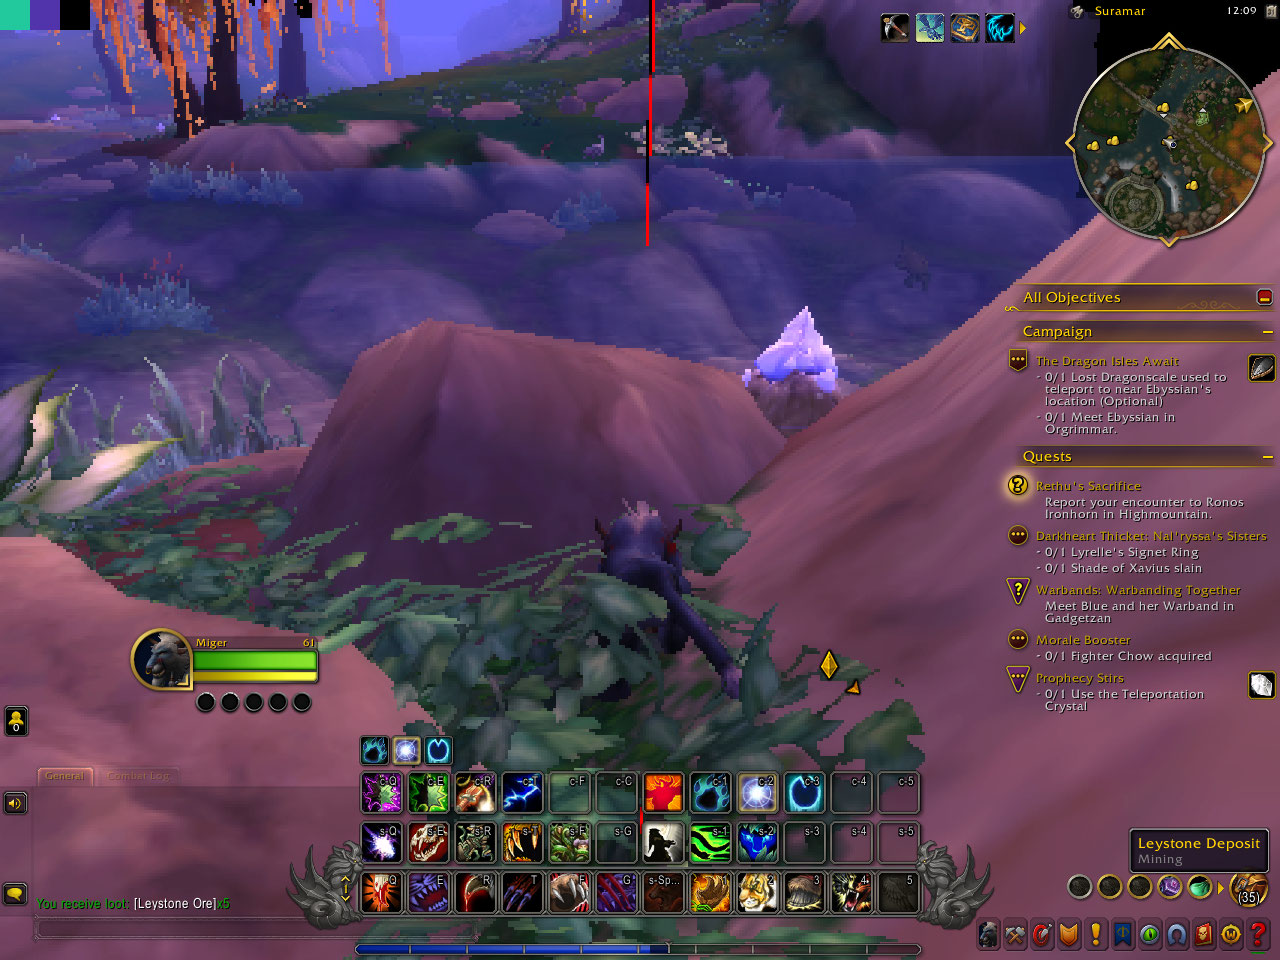ore: (738, 304, 846, 432)
